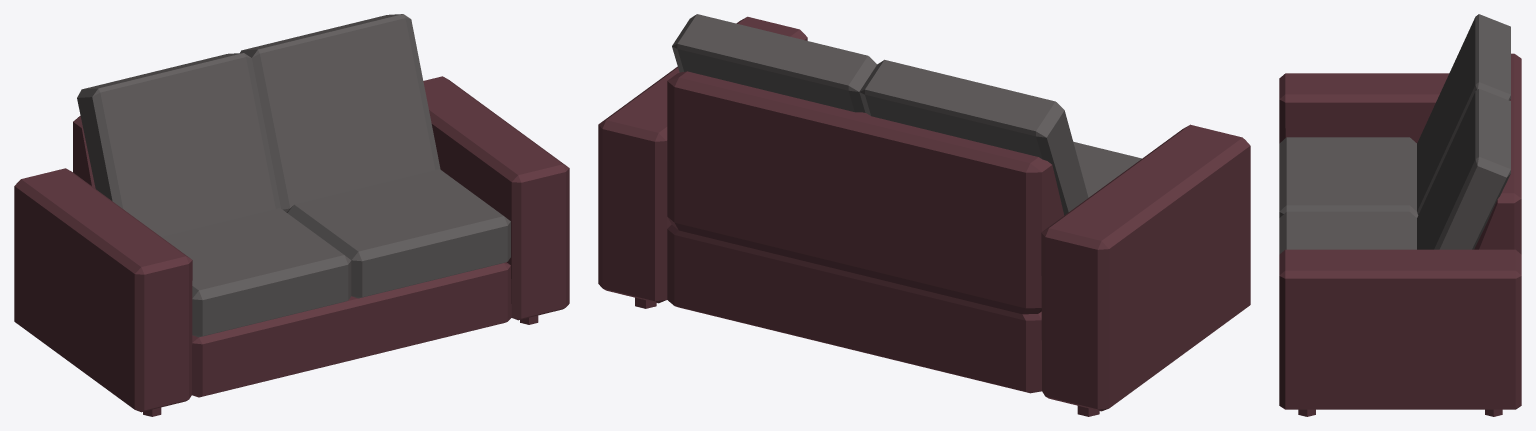
The model's file is sofa-modern-medium.fbx.
3 views of the same model, side by side, from view 1: azimuth 30°, elevation 25°; view 2: azimuth 150°, elevation 25°; view 3: azimuth 270°, elevation 25° (orthographic). The views are drawn at different scales.
Parts seen in each view (by area): view 1: sofa-modern-medium; view 2: sofa-modern-medium; view 3: sofa-modern-medium.
Boxes of the visible parts, x1=… form: sofa-modern-medium: x1=14, y1=14, x2=569, y2=416; sofa-modern-medium: x1=598, y1=14, x2=1250, y2=416; sofa-modern-medium: x1=1279, y1=14, x2=1521, y2=416.
Size of the model in its own units: 1.88 by 1.03 by 0.947.
